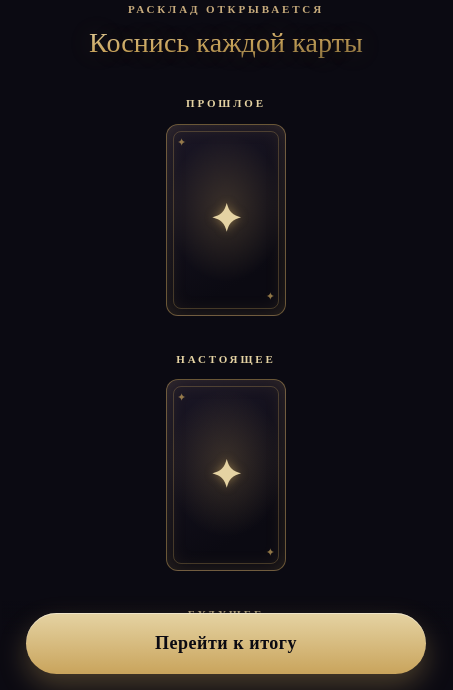
Test case: «Раскрыть все» flips the remaining cards (all card names render)
The width and height of the screenshot is (453, 690).
Click the button named "Открыть карту".
click(226, 220)  # box [166,124,286,316]
(page scrolled)
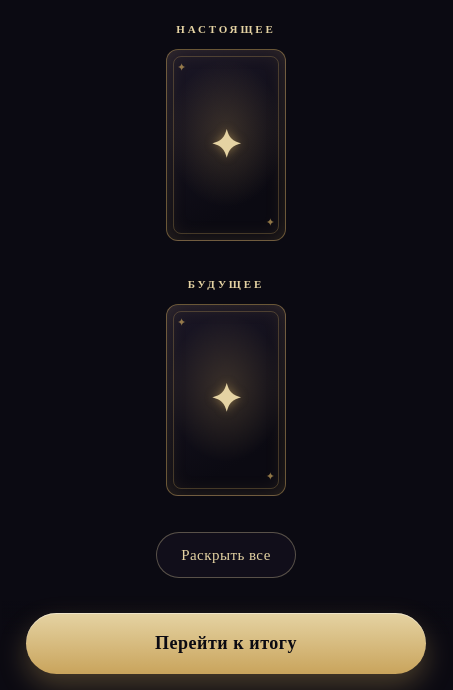
Click the button "Раскрыть все".
click(226, 555)  # box [156,532,296,578]
(page scrolled)
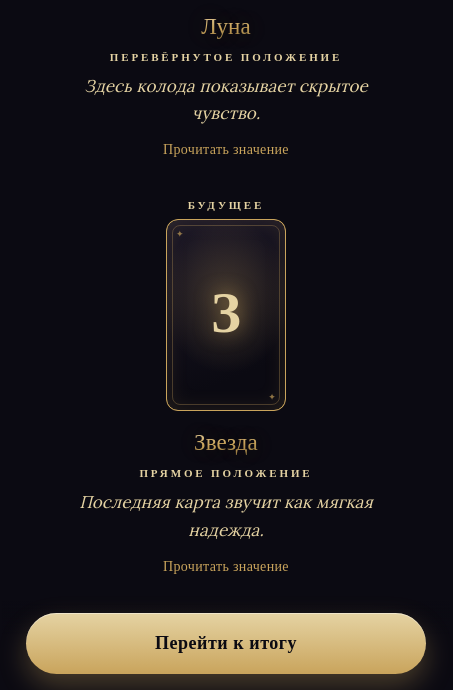
Result: the text "Луна" is shown at [201,13,251,42]
Result: the text "Звезда" is shown at [194,429,258,458]
